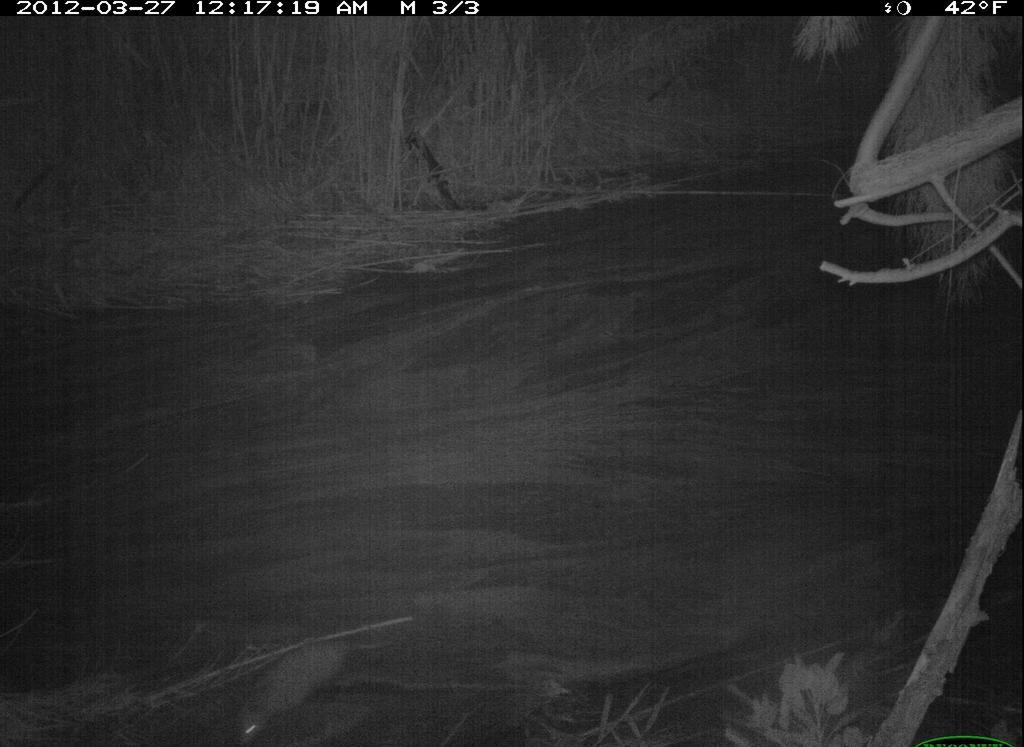opossum: (226, 620, 424, 745)
